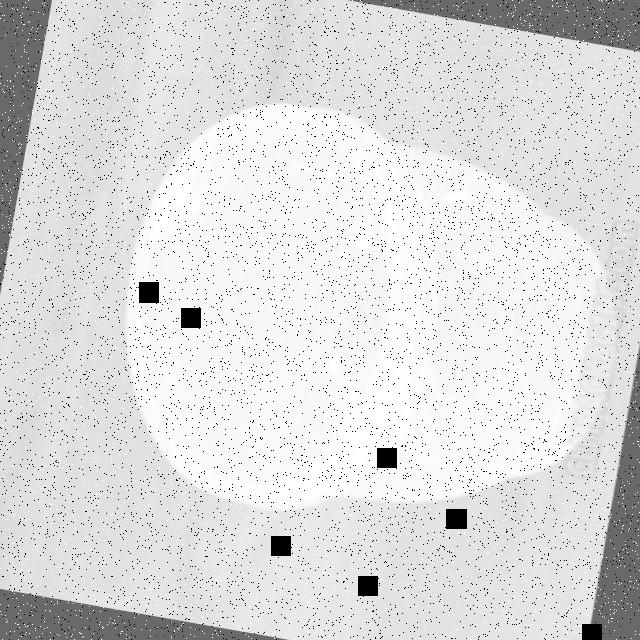plastic_box: (93, 78, 640, 562)
